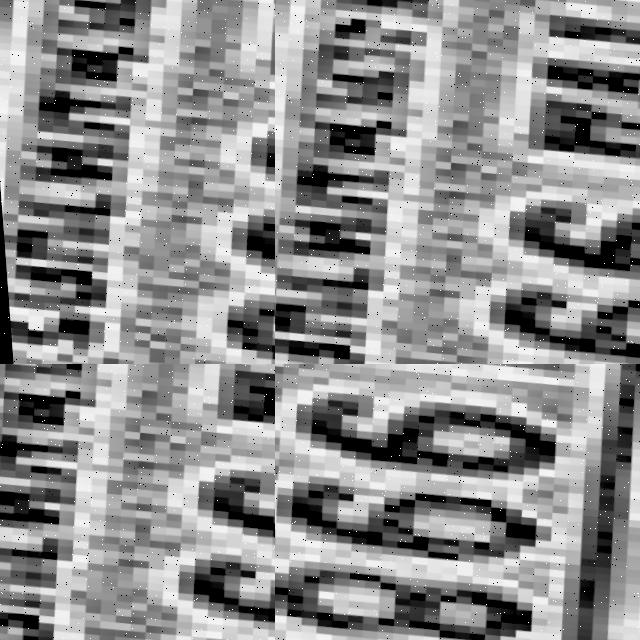license-plate: (275, 0, 640, 364), (275, 364, 640, 640), (0, 0, 275, 364), (0, 364, 275, 640)
